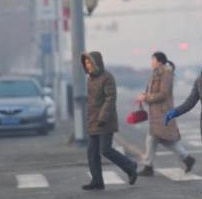person: (126, 50, 198, 178), (78, 50, 137, 191), (164, 70, 202, 138)
